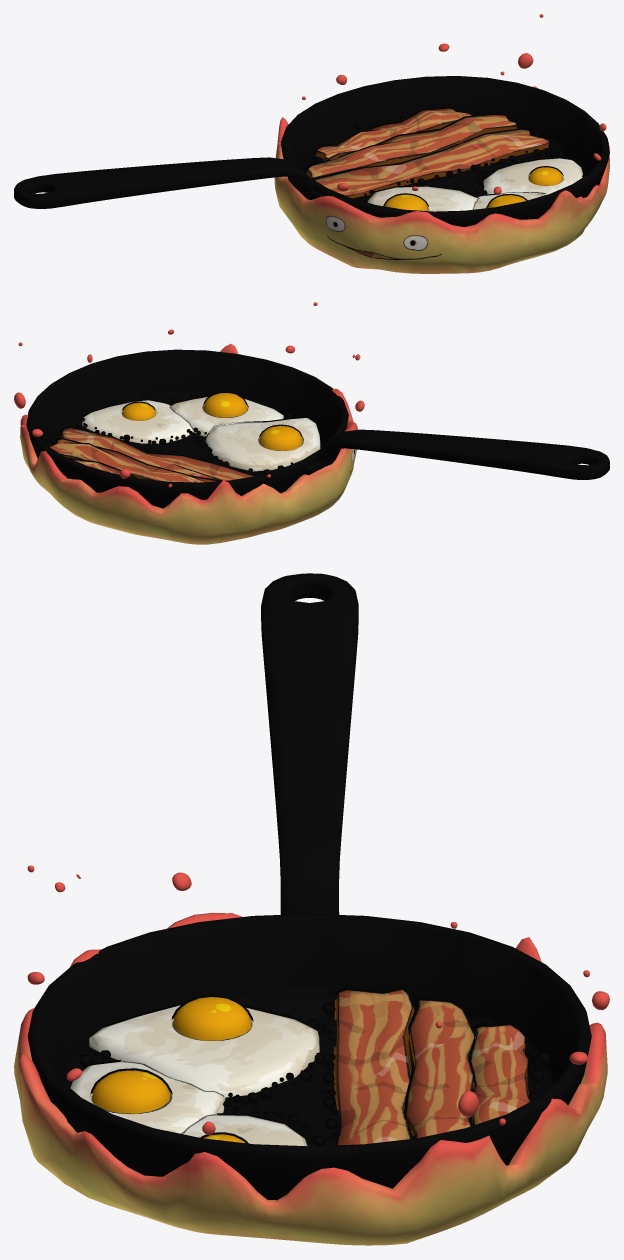
The model's file is howls_moving_castle_breakfast.obj.
3 renders of one model, top to bottom at view 1: azimuth 30°, elevation 25°; view 2: azimuth 150°, elevation 25°; view 3: azimuth 270°, elevation 25°, orthographic. The views are drawn at different scales.
Visible parts, largest first — view 1: skillet_low_line_art_0, calcifer_low_fire_0, bacon2_low_baconEggs_0, bacon1_low_baconEggs_0, egg3_low_baconEggs_0, bacon3_low_baconEggs_0, egg1_low_baconEggs_0, oilBubbles_oil_line_art_0, oilBubbles_oil_0, egg2_low_baconEggs_0, bacon2_low_line_art_0, bacon1_low_line_art_0; view 2: skillet_low_line_art_0, calcifer_low_fire_0, egg1_low_baconEggs_0, egg3_low_baconEggs_0, egg2_low_baconEggs_0, bacon2_low_baconEggs_0, bacon1_low_baconEggs_0, oilBubbles_oil_line_art_0, oilBubbles_oil_0, bacon2_low_line_art_0, bacon1_low_line_art_0; view 3: skillet_low_line_art_0, calcifer_low_fire_0, egg1_low_baconEggs_0, bacon2_low_baconEggs_0, bacon1_low_baconEggs_0, egg2_low_baconEggs_0, bacon3_low_baconEggs_0, egg3_low_baconEggs_0, oilBubbles_oil_line_art_0, oilBubbles_oil_0.
Boxes of the visible parts, <box> form: skillet_low_line_art_0: <box>14,76,609,226</box>; calcifer_low_fire_0: <box>274,14,609,273</box>; bacon2_low_baconEggs_0: <box>314,129,549,198</box>; bacon1_low_baconEggs_0: <box>306,114,517,178</box>; egg3_low_baconEggs_0: <box>483,158,582,194</box>; bacon3_low_baconEggs_0: <box>315,108,471,160</box>; egg1_low_baconEggs_0: <box>367,186,478,211</box>; oilBubbles_oil_line_art_0: <box>313,112,585,201</box>; oilBubbles_oil_0: <box>314,113,584,201</box>; egg2_low_baconEggs_0: <box>473,193,545,209</box>; bacon2_low_line_art_0: <box>313,128,550,179</box>; bacon1_low_line_art_0: <box>306,113,517,173</box>; skillet_low_line_art_0: <box>26,349,609,508</box>; calcifer_low_fire_0: <box>14,302,364,544</box>; egg1_low_baconEggs_0: <box>205,418,320,471</box>; egg3_low_baconEggs_0: <box>82,400,193,443</box>; egg2_low_baconEggs_0: <box>170,393,283,436</box>; bacon2_low_baconEggs_0: <box>56,427,253,480</box>; bacon1_low_baconEggs_0: <box>49,439,217,482</box>; oilBubbles_oil_line_art_0: <box>49,393,293,474</box>; oilBubbles_oil_0: <box>50,394,292,474</box>; bacon2_low_line_art_0: <box>55,426,257,480</box>; bacon1_low_line_art_0: <box>48,438,222,481</box>; skillet_low_line_art_0: <box>27,573,591,1200</box>; calcifer_low_fire_0: <box>14,865,609,1245</box>; egg1_low_baconEggs_0: <box>89,997,319,1097</box>; bacon2_low_baconEggs_0: <box>333,989,414,1145</box>; bacon1_low_baconEggs_0: <box>406,999,475,1138</box>; egg2_low_baconEggs_0: <box>70,1061,225,1133</box>; bacon3_low_baconEggs_0: <box>470,1024,530,1125</box>; egg3_low_baconEggs_0: <box>181,1115,307,1146</box>; oilBubbles_oil_line_art_0: <box>78,989,550,1145</box>; oilBubbles_oil_0: <box>80,992,549,1145</box>.
Size of the model in its own units: 3.71 by 0.8968 by 1.93.
Materials: 5 (2 with a texture image).
